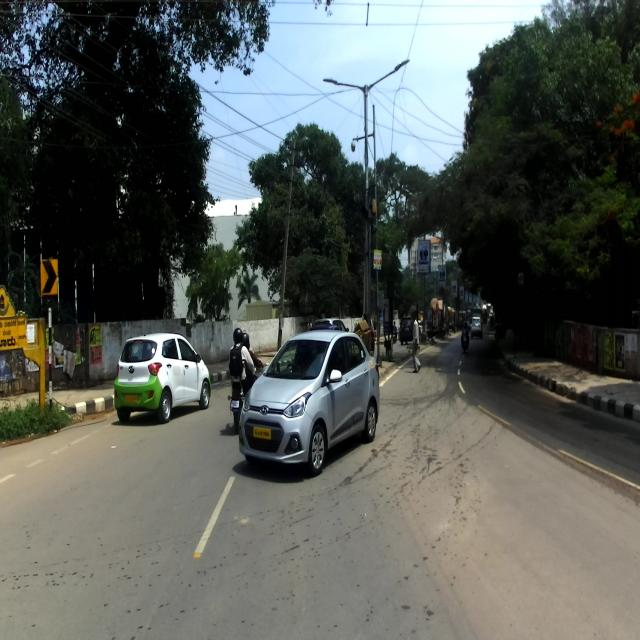car: (238, 330, 380, 478), (114, 332, 211, 423)
motorcycle: (226, 364, 267, 434)
